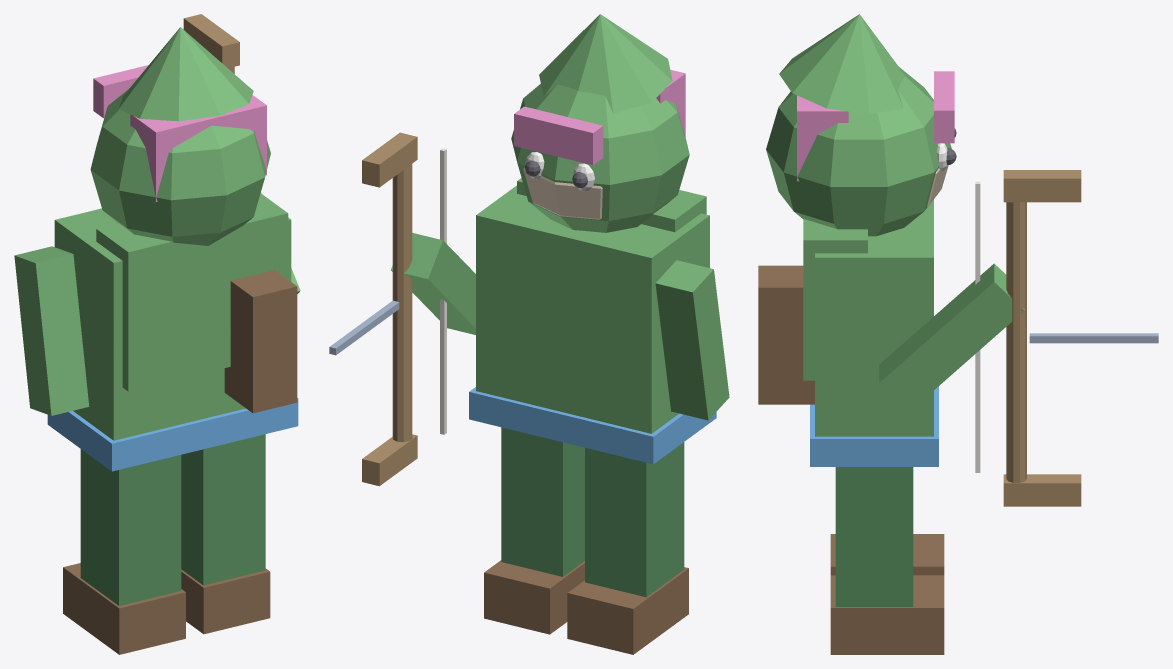
Rendered from archers.glb.
3 renders of one model, left to right at view 1: azimuth 30°, elevation 25°; view 2: azimuth 150°, elevation 25°; view 3: azimuth 270°, elevation 25°, orthographic.
Visible parts, largest first — view 1: archers; view 2: archers; view 3: archers.
Boxes of the visible parts, x1=… form: archers: x1=14, y1=14, x2=300, y2=654; archers: x1=329, y1=14, x2=729, y2=654; archers: x1=758, y1=14, x2=1158, y2=654.
Bounding box in the file's own units: 1.18 × 2.58 × 1.55.
